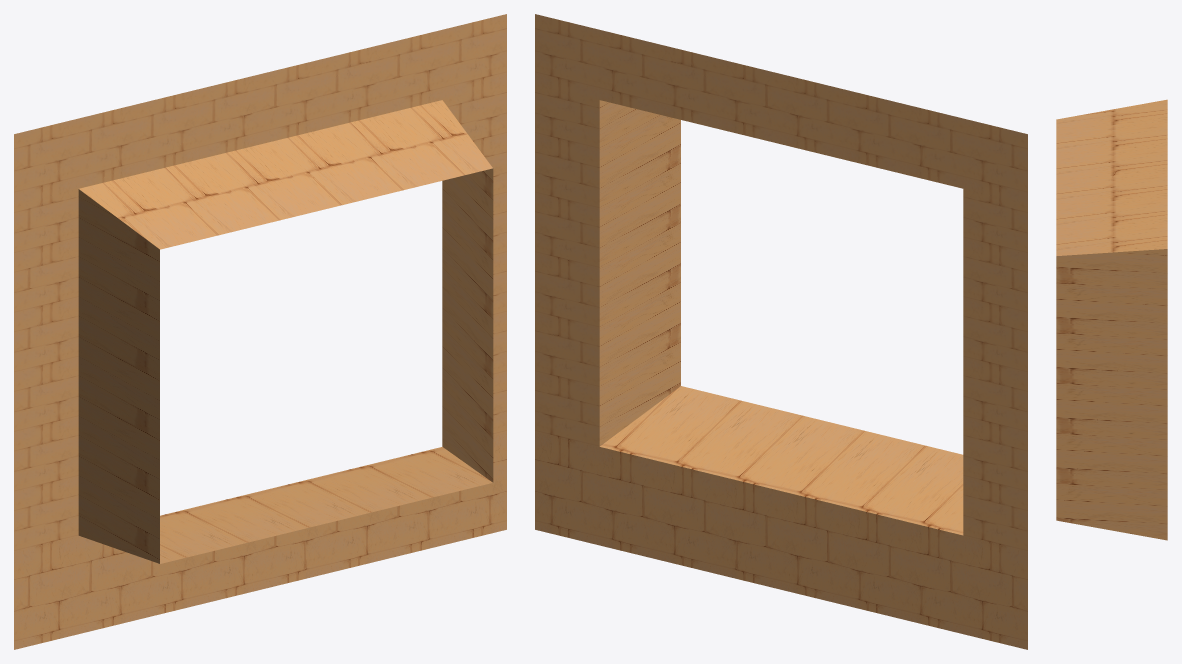
Rendered from Window_Large.fbx.
3 renders of one model, left to right at view 1: azimuth 30°, elevation 25°; view 2: azimuth 150°, elevation 25°; view 3: azimuth 270°, elevation 25°, orthographic. The views are drawn at different scales.
Parts seen in each view (by area): view 1: Window_Large; view 2: Window_Large; view 3: Window_Large.
Boxes of the visible parts, <box> form: Window_Large: <box>14,14,506,649</box>; Window_Large: <box>535,14,1027,649</box>; Window_Large: <box>1056,99,1167,540</box>.
Bounding box in the file's own units: 400 × 400 × 93.01.
